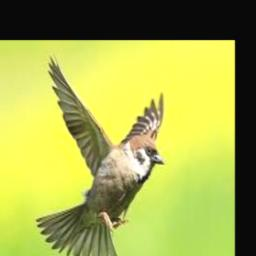Sparrow: (36, 53, 164, 256)
